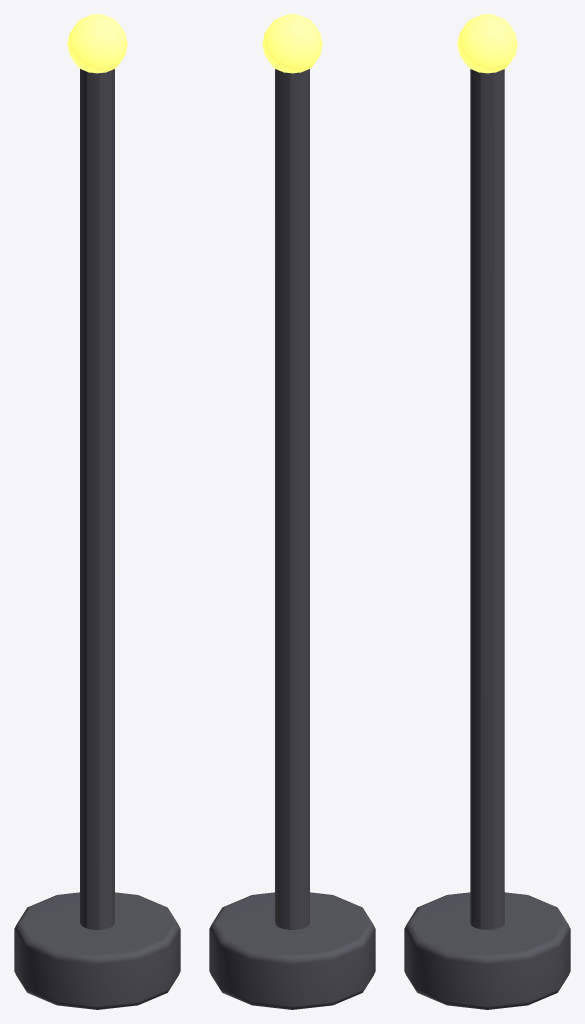
The model's file is mech_kit_antenna_stub.glb.
3 views of the same model, side by side, from view 1: azimuth 30°, elevation 25°; view 2: azimuth 150°, elevation 25°; view 3: azimuth 270°, elevation 25° (orthographic).
Visible parts, largest first — view 1: mech_kit_antenna_stub; view 2: mech_kit_antenna_stub; view 3: mech_kit_antenna_stub.
Boxes of the visible parts, left/top/right/bottom form: mech_kit_antenna_stub: left=14, top=14, right=180, bottom=1009; mech_kit_antenna_stub: left=209, top=14, right=375, bottom=1009; mech_kit_antenna_stub: left=404, top=14, right=570, bottom=1009.
Size of the model in its own units: 0.044 by 0.28 by 0.044.
